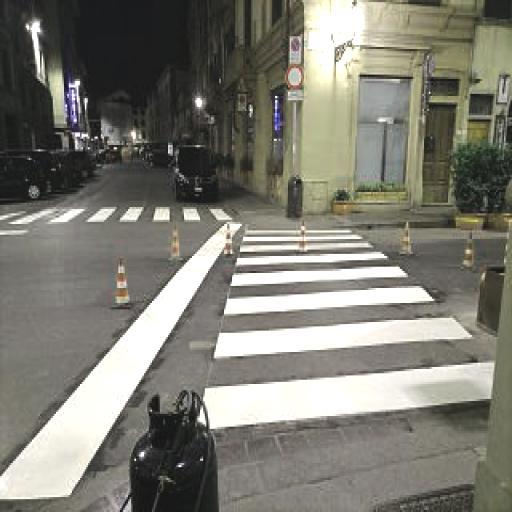crosswalk: (206, 282, 482, 360), (228, 236, 394, 266)
